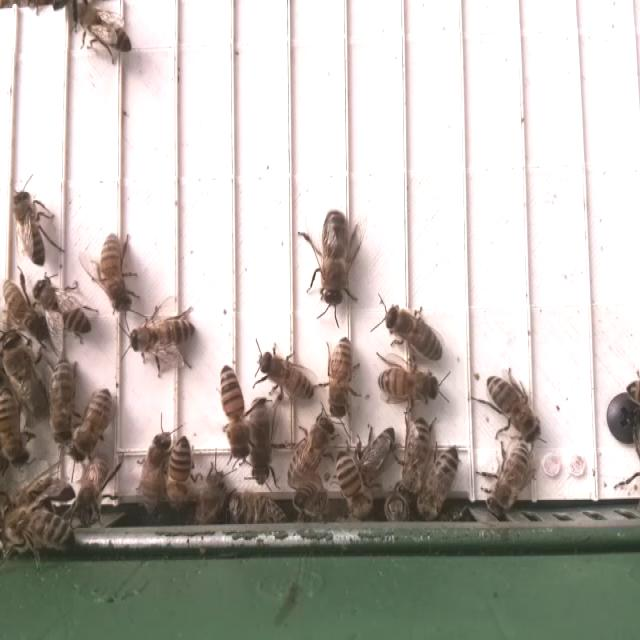Drone: (317, 207, 354, 311)
Worker: (481, 371, 544, 445), (30, 275, 96, 336), (383, 299, 443, 366), (70, 384, 114, 467), (286, 413, 335, 486), (98, 227, 136, 315), (255, 349, 314, 404), (10, 186, 50, 264), (420, 446, 463, 518), (137, 430, 173, 516), (127, 314, 197, 358), (217, 363, 249, 459), (489, 442, 533, 511), (376, 363, 441, 409), (332, 444, 370, 520), (246, 394, 276, 486), (50, 351, 77, 450), (399, 414, 432, 495), (326, 330, 354, 420)
